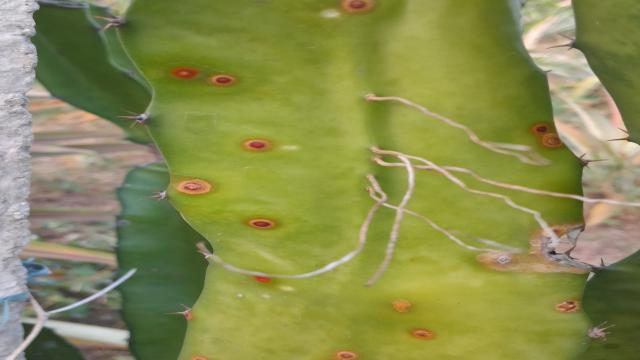stemcanker: (165, 174, 215, 199), (238, 135, 276, 155), (167, 63, 203, 82), (337, 1, 378, 17), (205, 72, 239, 91), (556, 295, 582, 316), (242, 216, 275, 231), (538, 132, 565, 150), (409, 325, 436, 343), (390, 297, 415, 316), (529, 118, 554, 136), (334, 347, 362, 360), (250, 274, 274, 287)
